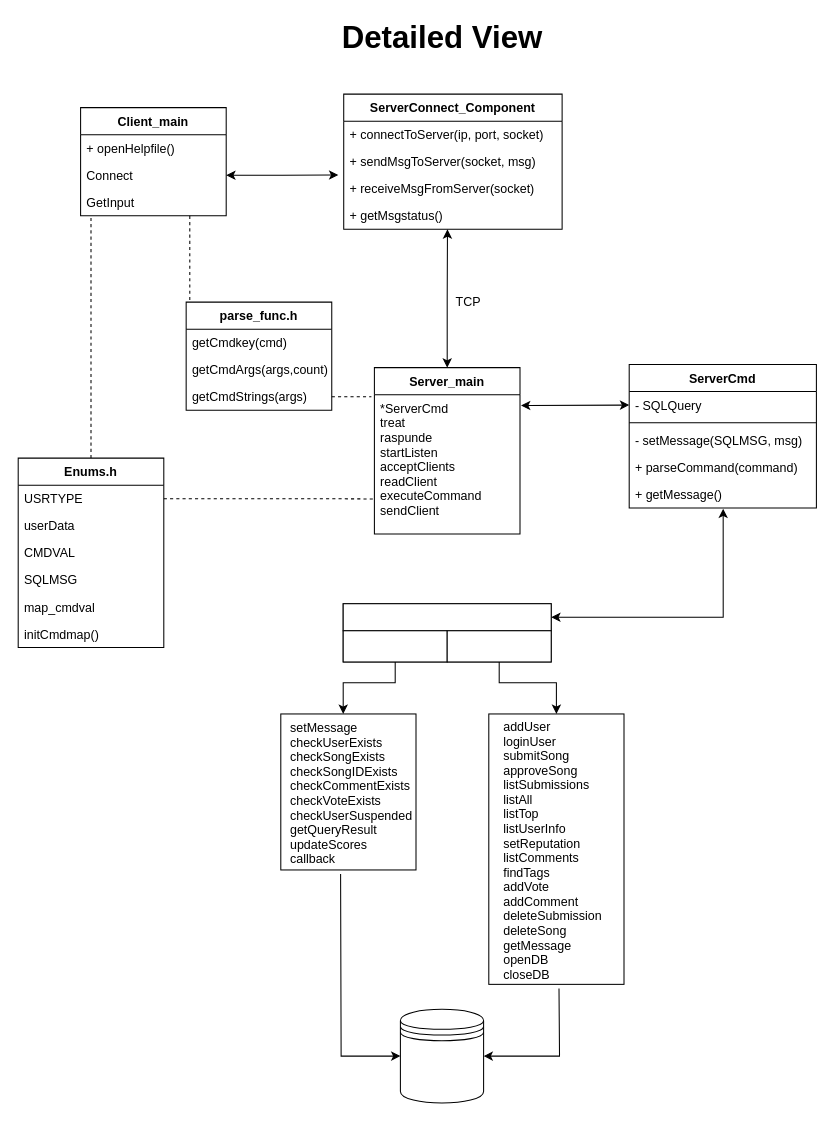
Some shapes in this 835 by 1121 pixel diagram are drawn without their labels. Here are the shapes that lost their labels. From the top down, the centre of each, then its label:
(x=446, y=617): SQLQuery
(x=394, y=646): private functions
(x=498, y=646): public functions
(x=441, y=1055): DB
